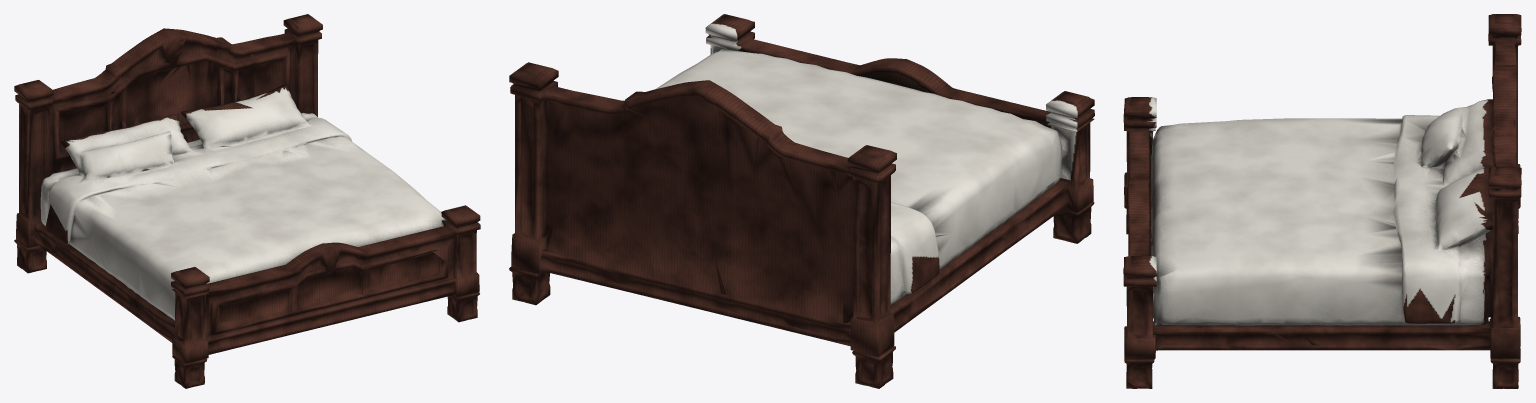
Rendered from Bed_Roblox.fbx.
The picture shows the model from 3 angles, left to right: view 1: azimuth 30°, elevation 25°; view 2: azimuth 150°, elevation 25°; view 3: azimuth 270°, elevation 25°; orthographic projection. The views are drawn at different scales.
Parts seen in each view (by area): view 1: Bed; view 2: Bed; view 3: Bed.
Part boxes in pixels (bbox=[...]): Bed: bbox=[14, 14, 480, 388]; Bed: bbox=[509, 14, 1094, 388]; Bed: bbox=[1123, 14, 1521, 388].
Size of the model in its own units: 2.2 by 1.43 by 2.2.
